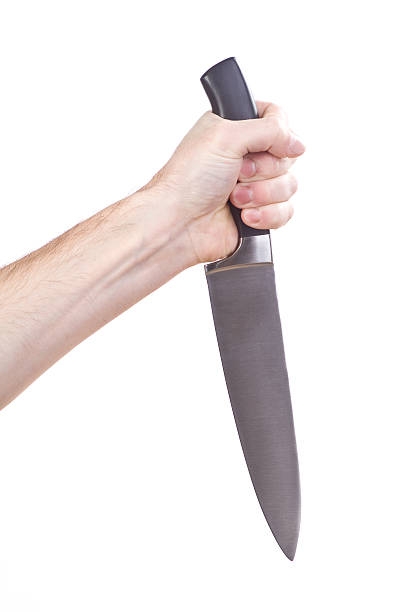knife: (200, 56, 303, 563)
